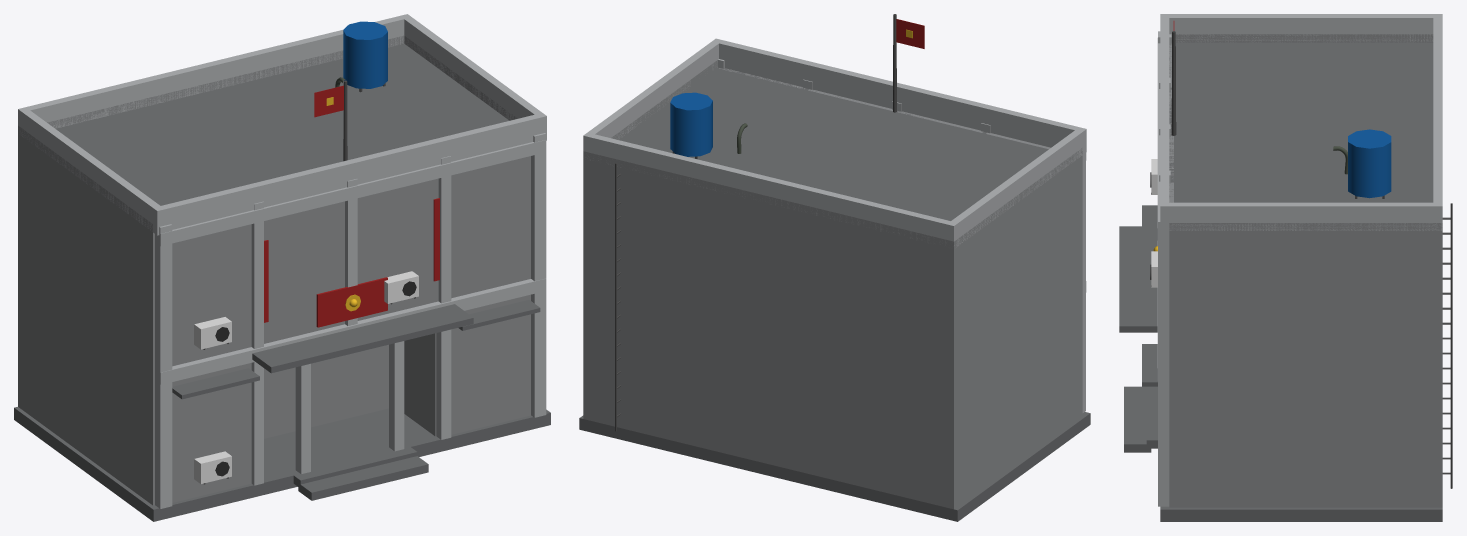
The model's file is concrete-building.glb.
3 renders of one model, left to right at view 1: azimuth 30°, elevation 25°; view 2: azimuth 150°, elevation 25°; view 3: azimuth 270°, elevation 25°, orthographic. The views are drawn at different scales.
Parts seen in each view (by area): view 1: Mesh_RightWall, Mesh_Roof_Floor, Mesh_Plinth, Mesh_Parapet_Front, Mesh_FF_LeftWall, Mesh_Parapet_Back, Mesh_FF_RightWall, Mesh_FF_RightInnerWall, Mesh_GF_LeftWall, Mesh_FF_LeftInnerWall, Mesh_GF_RightWall, Mesh_GF_RecessWall (+25 smaller); view 2: Mesh_BackWall, Mesh_RightWall, Mesh_Roof_Floor, Mesh_Parapet_Front, Mesh_Parapet_Back, Mesh_Plinth, Mesh_Parapet_Right, Mesh_Parapet_Left, Mesh_WaterTank, Mesh_Col_CornerR, Mesh_LeftWall, Mesh_Flag_Red; view 3: Mesh_LeftWall, Mesh_Roof_Floor, Mesh_Parapet_Left, Mesh_Parapet_Right, Mesh_Plinth, Mesh_Awning_Entrance, Mesh_Col_CornerL, Mesh_WaterTank, Mesh_BackWall, Mesh_RightWall, Mesh_Parapet_Front, Mesh_Parapet_Back (+6 smaller).
Boxes of the visible parts, x1,y1,x2,y2 form: Mesh_RightWall: (22,129,154,505); Mesh_Roof_Floor: (55,43,509,205); Mesh_Plinth: (14,407,550,521); Mesh_Parapet_Front: (153,113,546,235); Mesh_FF_LeftWall: (451,156,530,298); Mesh_Parapet_Back: (18,14,411,136); Mesh_FF_RightWall: (172,224,251,366); Mesh_FF_RightInnerWall: (264,201,344,343); Mesh_GF_LeftWall: (451,294,530,434); Mesh_FF_LeftInnerWall: (357,178,438,320); Mesh_GF_RightWall: (172,363,251,502); Mesh_GF_RecessWall: (264,344,388,438); Mesh_BackWall: (583,151,958,509); Mesh_RightWall: (958,148,1082,505); Mesh_Roof_Floor: (619,67,1048,220); Mesh_Parapet_Front: (712,38,1086,154); Mesh_Parapet_Back: (583,132,958,247); Mesh_Plinth: (579,412,1090,521); Mesh_Parapet_Right: (951,130,1082,245); Mesh_Parapet_Left: (588,41,718,139); Mesh_WaterTank: (670,92,712,156); Mesh_Col_CornerR: (1082,154,1085,412); Mesh_LeftWall: (611,60,717,139); Mesh_Flag_Red: (896,19,924,48); Mesh_LeftWall: (1169,223,1433,507); Mesh_Roof_Floor: (1169,42,1433,202); Mesh_Parapet_Left: (1169,202,1433,230); Mesh_Parapet_Right: (1169,14,1433,42); Mesh_Plinth: (1160,506,1442,521); Mesh_Awning_Entrance: (1119,226,1157,332); Mesh_Col_CornerL: (1158,216,1169,506); Mesh_WaterTank: (1348,129,1391,198); Mesh_BackWall: (1433,223,1442,507); Mesh_RightWall: (1171,34,1433,42); Mesh_Parapet_Front: (1160,14,1169,231); Mesh_Parapet_Back: (1433,14,1442,230).
Size of the model in its own units: 10.2 by 9.5 by 7.32.
